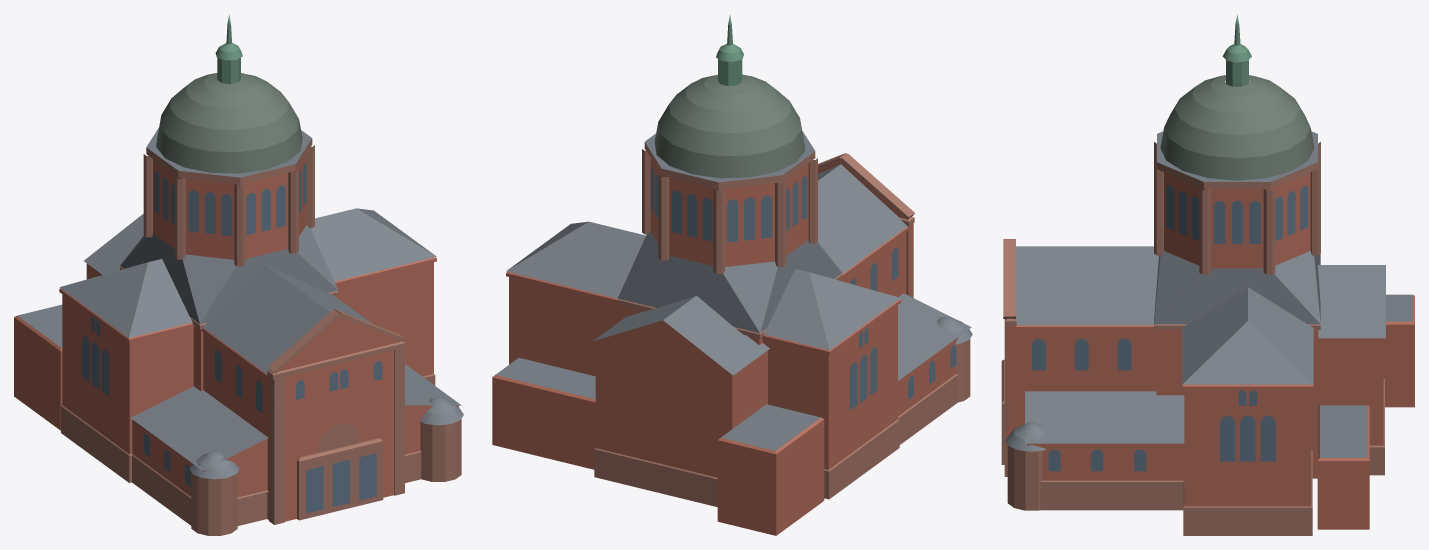
Rendered from dc-st-matthews.glb.
3 views of the same model, side by side, from view 1: azimuth 30°, elevation 25°; view 2: azimuth 150°, elevation 25°; view 3: azimuth 270°, elevation 25° (orthographic). The views are drawn at different scales.
Parts seen in each view (by area): view 1: Cathedral of St. Matthew the Apostle; view 2: Cathedral of St. Matthew the Apostle; view 3: Cathedral of St. Matthew the Apostle.
Part boxes in pixels (x1,y1,x2,y2): Cathedral of St. Matthew the Apostle: [14, 15, 463, 535]; Cathedral of St. Matthew the Apostle: [492, 15, 972, 535]; Cathedral of St. Matthew the Apostle: [1001, 15, 1414, 535].
Bounding box in the file's own units: 48.8 × 61 × 53.15.
